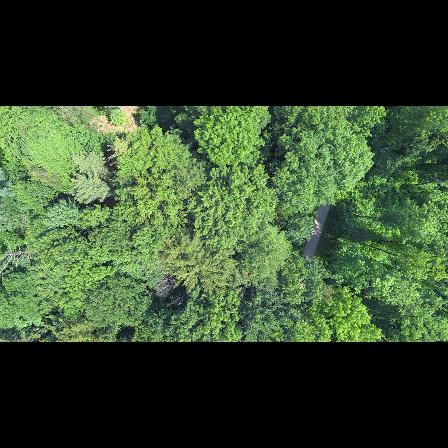Dead: (0, 246, 38, 274), (147, 272, 179, 298)
